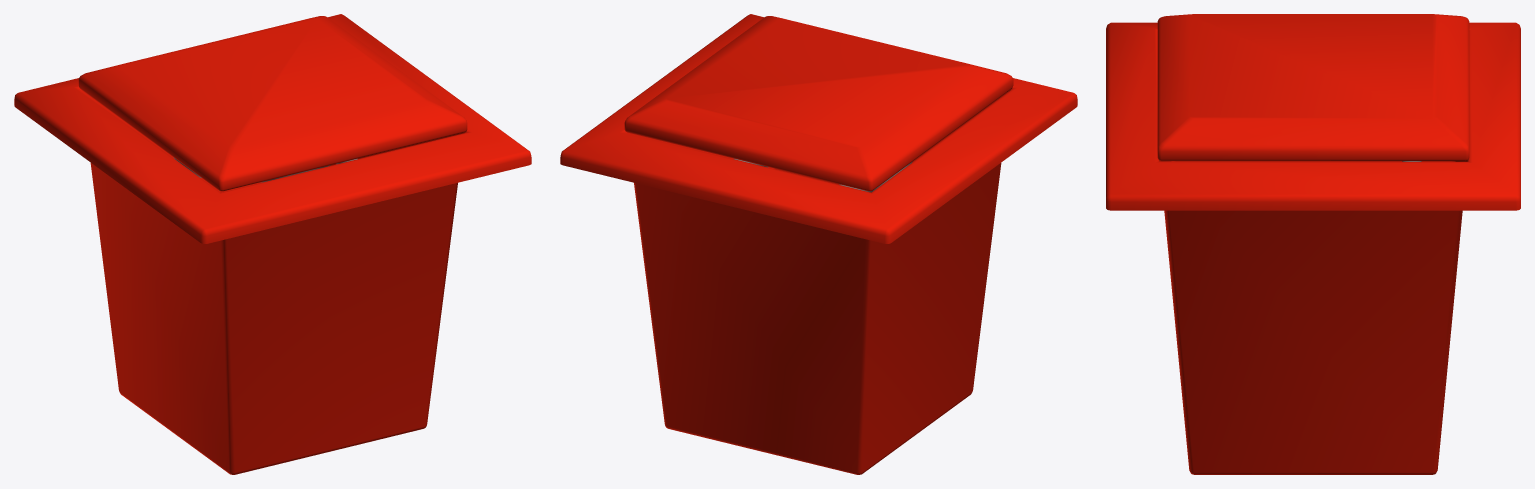
File: Spring_Pad.fbx
3 renders of one model, left to right at view 1: azimuth 30°, elevation 25°; view 2: azimuth 150°, elevation 25°; view 3: azimuth 270°, elevation 25°, orthographic. The views are drawn at different scales.
Parts seen in each view (by area): view 1: Spring_Pad, Spring_Top; view 2: Spring_Pad, Spring_Top; view 3: Spring_Pad, Spring_Top.
Boxes of the visible parts, <box> form: Spring_Pad: <box>14,14,531,474</box>; Spring_Top: <box>78,16,467,191</box>; Spring_Pad: <box>560,14,1077,474</box>; Spring_Top: <box>624,16,1013,191</box>; Spring_Pad: <box>1106,22,1520,474</box>; Spring_Top: <box>1157,14,1469,161</box>.
Size of the model in its own units: 335 by 319 by 335.
